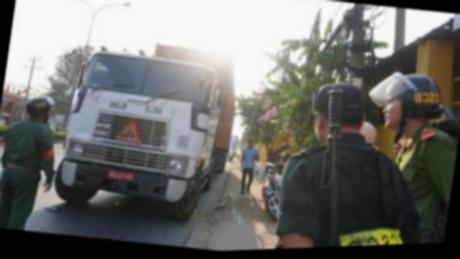License_Plate: (105, 170, 137, 183)
